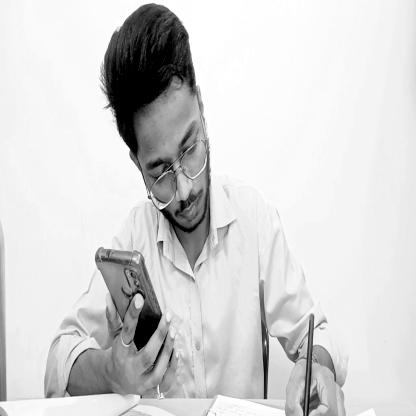Distracted: (104, 10, 213, 238)
